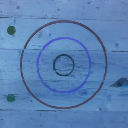Axe Tip: (109, 84, 122, 87)
